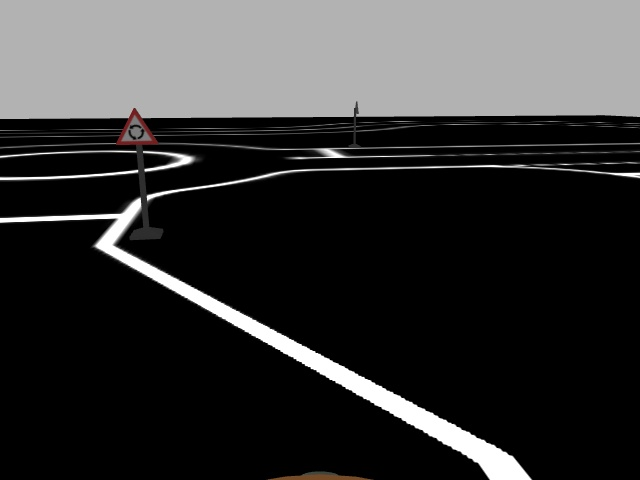roundabout: (113, 106, 159, 145)
